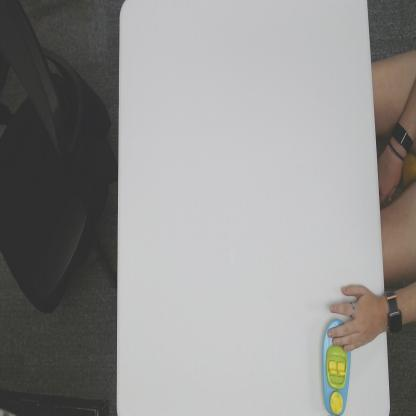Boat: (322, 317, 352, 416)
Hand: (327, 283, 382, 352)
